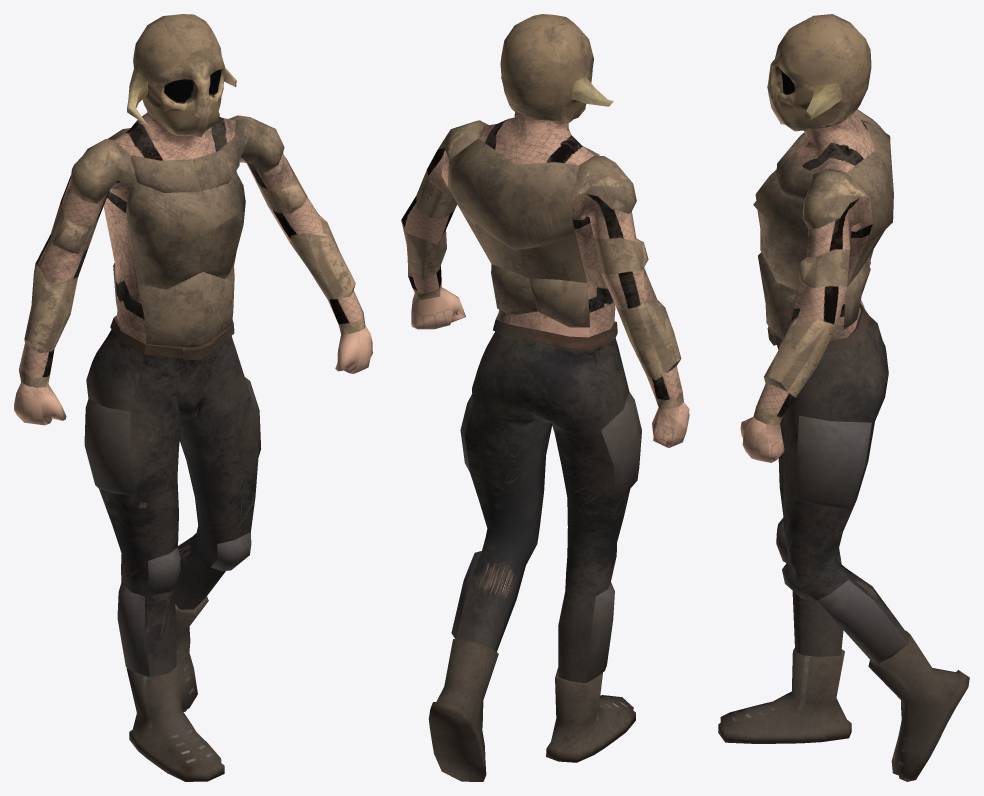
The model's file is Anim_andar_npc1.0028.obj.
3 renders of one model, left to right at view 1: azimuth 30°, elevation 25°; view 2: azimuth 150°, elevation 25°; view 3: azimuth 270°, elevation 25°, orthographic.
Parts seen in each view (by area): view 1: Anim_andar_npc1; view 2: Anim_andar_npc1; view 3: Anim_andar_npc1.
Part boxes in pixels (box(x1,y1,x2,y2)): Anim_andar_npc1: box(14, 14, 372, 781); Anim_andar_npc1: box(401, 14, 689, 781); Anim_andar_npc1: box(718, 14, 969, 781).
Bounding box in the file's own units: 4.37 × 9.82 × 3.02.
